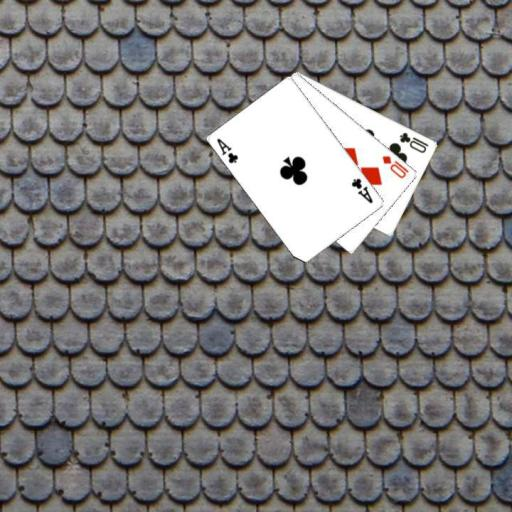10C: (397, 129, 430, 154)
10D: (379, 152, 410, 180)
AC: (348, 175, 375, 205), (214, 135, 240, 165)
